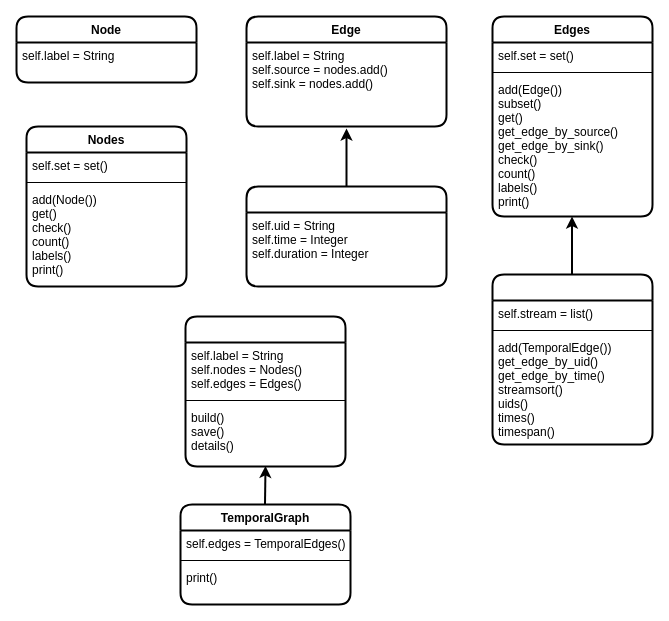
This 669x621 diagram has some shape labels left out. The shapes that lost their labels are listed below. From the top down, each one's box as (x1, y1, x2, y2) in pixels, then its label:
(245, 185, 447, 287): TemporalEdge
(491, 273, 653, 445): TemporalEdges
(184, 315, 346, 467): Graph
